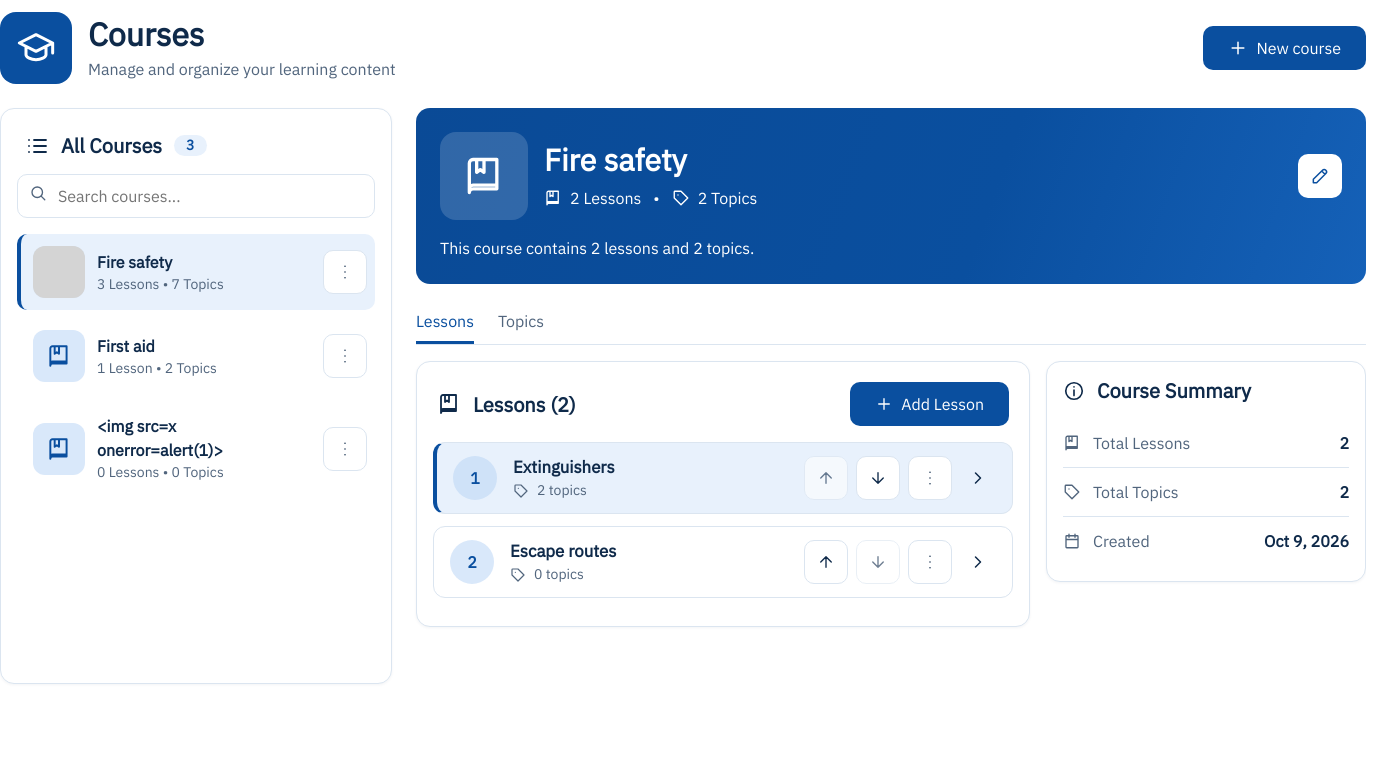
Test case: CoursesPage › shows the course that is chosen in the list
Click the button "First aid 1 Lesson • 2 Topics" at (168,356), box [21,318,315,394]
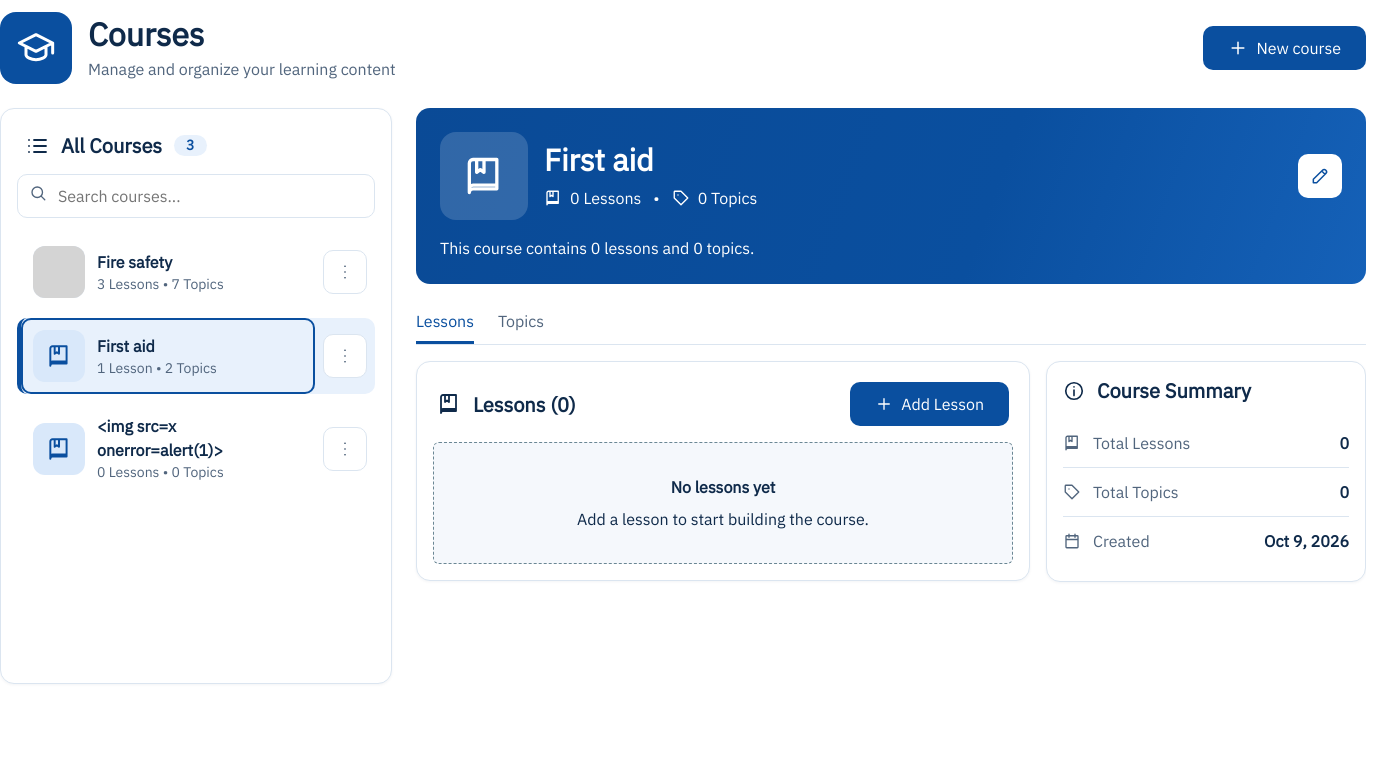
expect the heading "First aid" is shown: met, box [544,140,654,179]
expect the text "No lessons yet" is shown: met, box [671,477,775,497]
